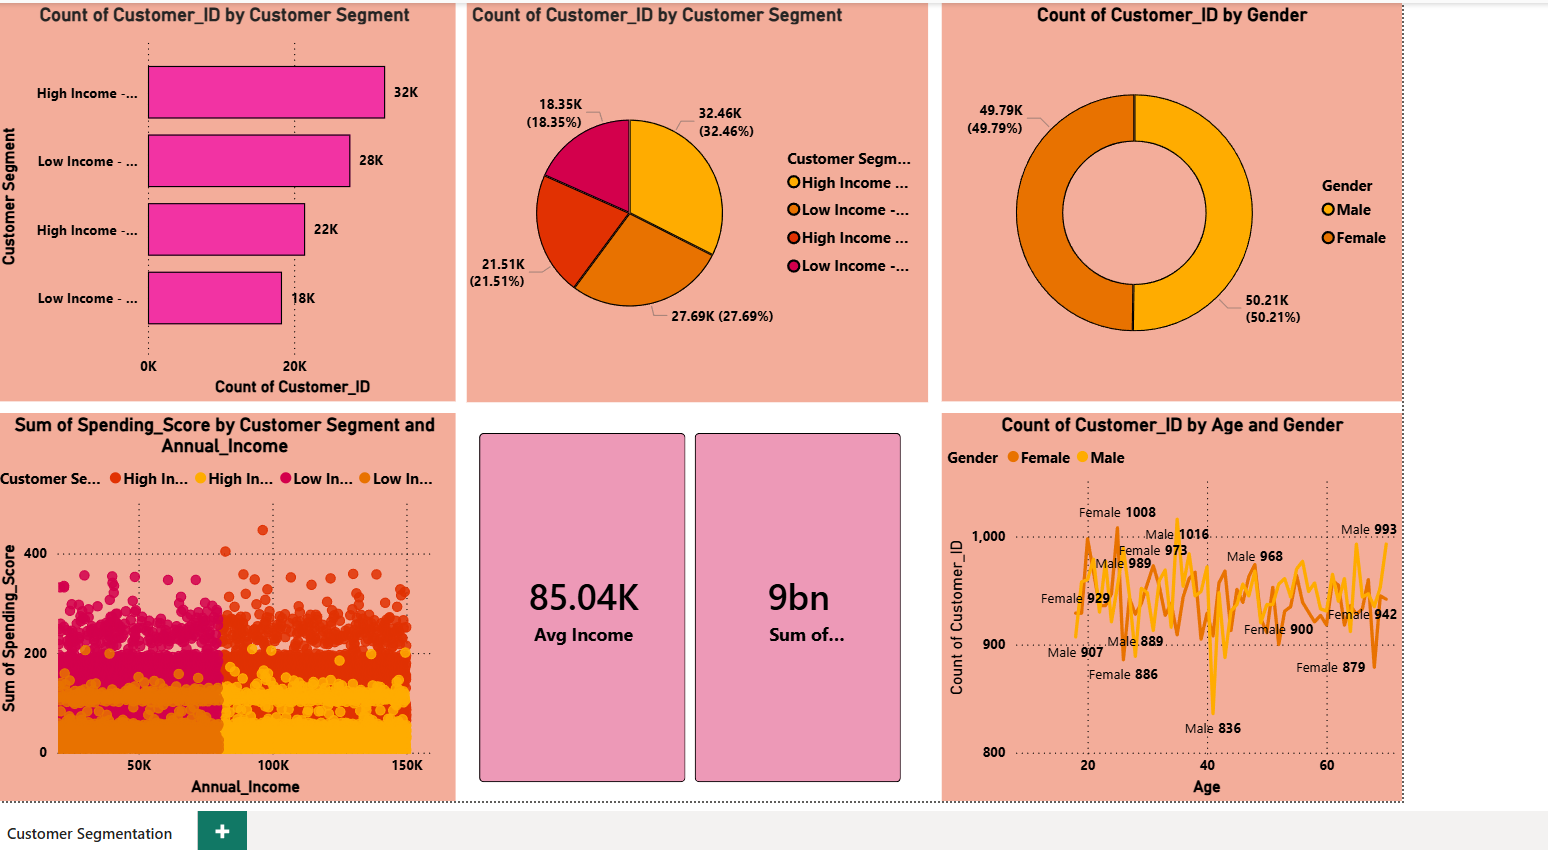

The page's visual inventory and layout, read from the dashboard file:
{"tool":"powerbi","page":{"name":"Page 1","canvas":[1280,720],"ordinal":0},"visuals":[{"type":"barChart","fields":{"Category":["Customer_Data.Customer Segment"],"Y":["CountNonNull(Customer_Data.Customer_ID)"]},"box":[9.6,0,415.8,359.5],"z":0},{"type":"scatterChart","fields":{"X":["Customer_Data.Annual_Income"],"Y":["Sum(Customer_Data.Spending_Score)"],"Series":["Customer_Data.Customer Segment"]},"box":[10,370,416,350],"z":1000},{"type":"pieChart","fields":{"Y":["CountNonNull(Customer_Data.Customer_ID)"],"Category":["Customer_Data.Customer Segment"]},"box":[436,0,416,360],"z":2000},{"type":"donutChart","fields":{"Category":["Customer_Data.Gender"],"Y":["CountNonNull(Customer_Data.Customer_ID)"]},"box":[864.5,0,415.8,359.5],"z":4000},{"type":"lineChart","fields":{"Category":["Customer_Data.Age"],"Y":["CountNonNull(Customer_Data.Customer_ID)"],"Series":["Customer_Data.Gender"]},"box":[864,370,416,350],"z":5000},{"type":"cardVisual","fields":{"Data":["Customer_Data.Avg Income","Sum(Customer_Data.Annual_Income)"]},"box":[430.9,370.5,415.8,349.9],"z":5001}]}

Visuals, with their boxes on the page's 1280x720 design canvas (x1, y1, x2, y2). These are canvas units, not pixel positions in the 1548x850 screenshot, which may show the page scaled, cropped or inside an application window:
barChart - Customer_Data.Customer Segment x CountNonNull(Customer_Data.Customer_ID): (x1=10, y1=0, x2=425, y2=360)
scatterChart - Customer_Data.Annual_Income x Sum(Customer_Data.Spending_Score): (x1=10, y1=370, x2=426, y2=720)
pieChart - CountNonNull(Customer_Data.Customer_ID) x Customer_Data.Customer Segment: (x1=436, y1=0, x2=852, y2=360)
donutChart - Customer_Data.Gender x CountNonNull(Customer_Data.Customer_ID): (x1=864, y1=0, x2=1280, y2=360)
lineChart - Customer_Data.Age x CountNonNull(Customer_Data.Customer_ID): (x1=864, y1=370, x2=1280, y2=720)
cardVisual - Customer_Data.Avg Income x Sum(Customer_Data.Annual_Income): (x1=431, y1=370, x2=847, y2=720)
